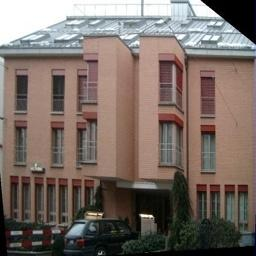building: (2, 9, 256, 250)
